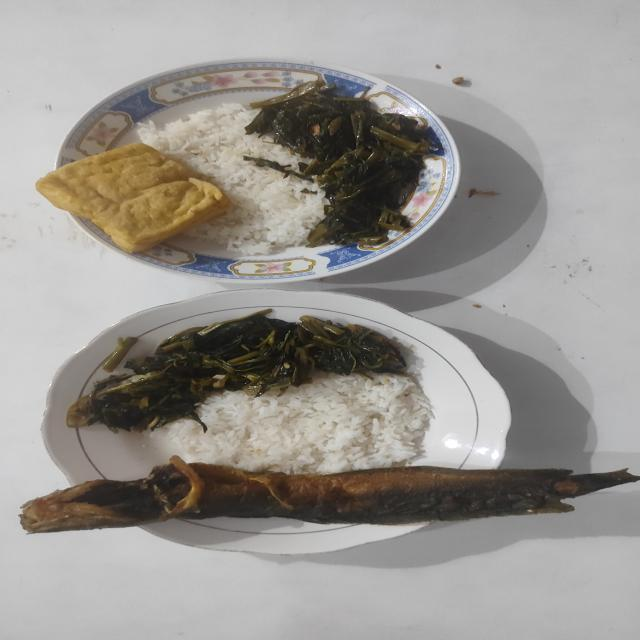nasi_putih: (139, 103, 326, 256), (160, 374, 434, 474)
tahu_goreng: (36, 143, 230, 253)
tumis_kangkung: (66, 308, 407, 432), (245, 81, 444, 246)
